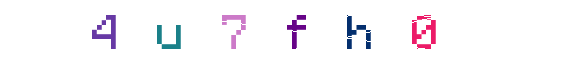0: (384, 0, 464, 80)
4: (156, 0, 236, 80)
7: (179, 0, 259, 80)
F: (245, 0, 325, 80)
H: (316, 0, 396, 80)
U: (160, 0, 240, 80)
